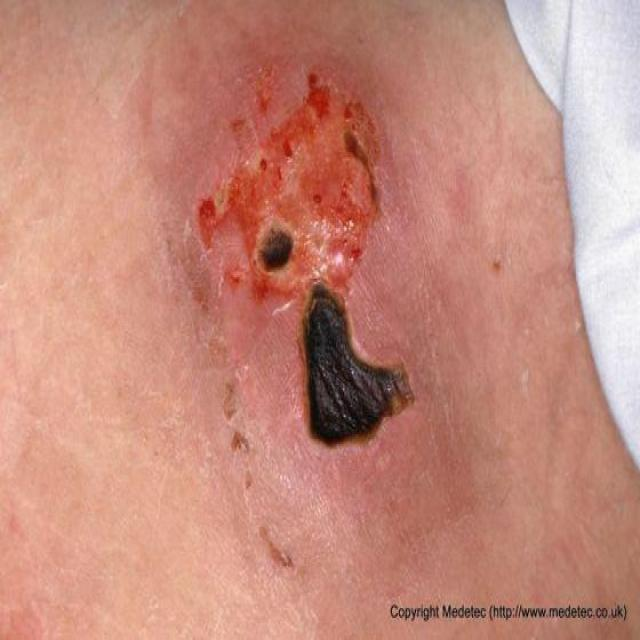Unstageable: (304, 283, 412, 441), (258, 225, 294, 272)
